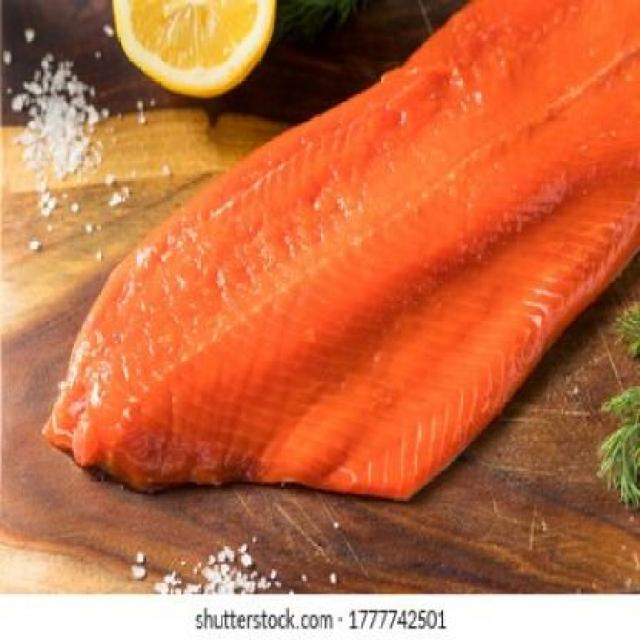salmon: (47, 12, 640, 506)
